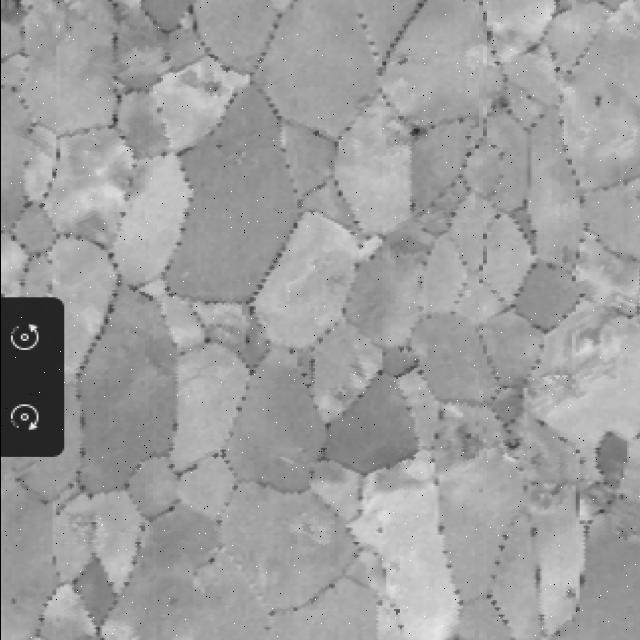good_void: (184, 64, 227, 101), (396, 121, 430, 140), (499, 433, 527, 456), (391, 53, 414, 68), (589, 94, 607, 111)
